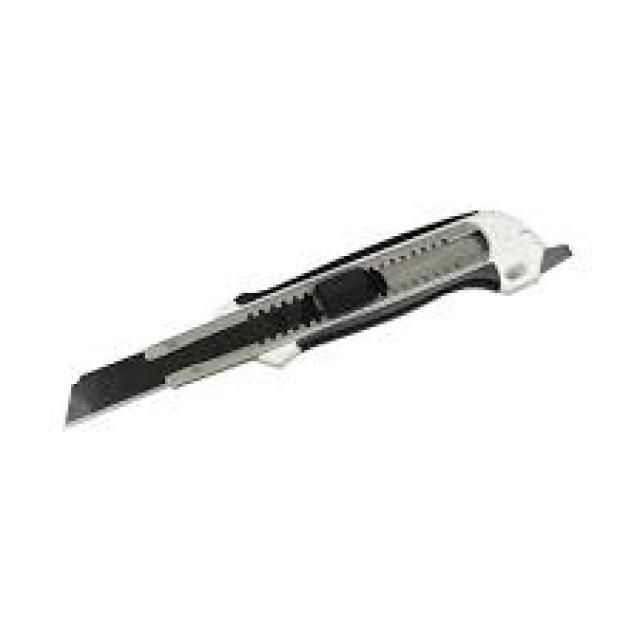cutter: (51, 192, 575, 443)
